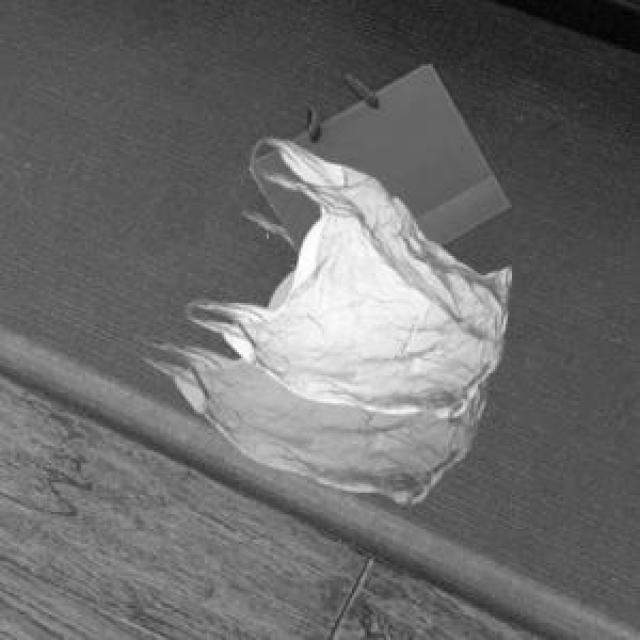paper: (245, 60, 506, 252)
